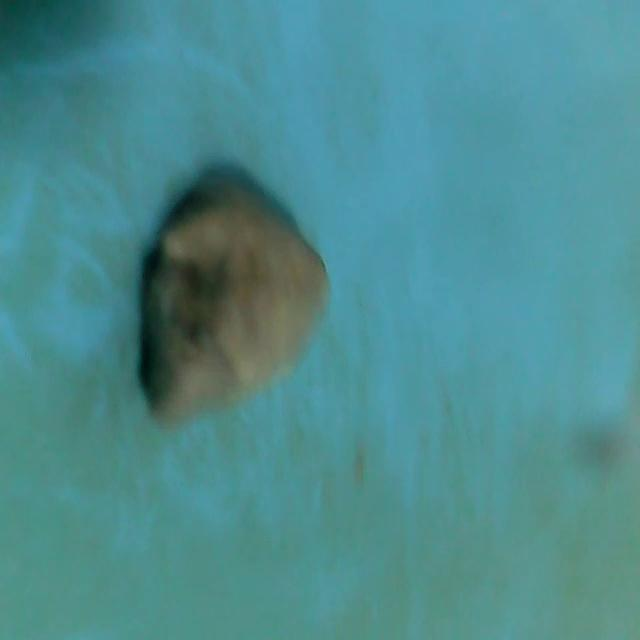rock: (108, 157, 333, 432)
